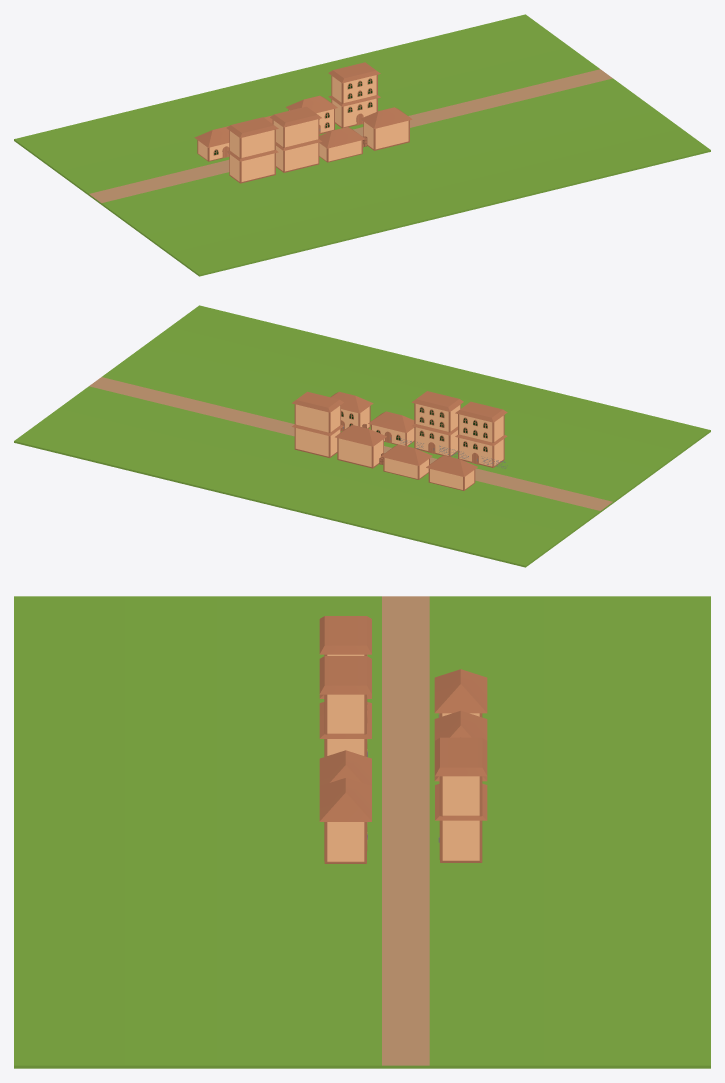
3 views of the same model, one above another, from view 1: azimuth 30°, elevation 25°; view 2: azimuth 150°, elevation 25°; view 3: azimuth 270°, elevation 25° (orthographic). The views are drawn at different scales.
Parts seen in each view (by area): view 1: ground, baseFloor1.004, base, baseFloor1, baseFloor1.005, baseFloor1.001, baseFloor1.003, baseFloor1.002, roof, base.001, roof.005, roof.008 (+4 smaller); view 2: ground, base.002, baseFloor1.002, baseFloor1.003, baseFloor1.004, baseFloor1, baseFloor1.005, baseFloor1.001, base.004, base.003, roof.006, roof.009 (+6 smaller); view 3: ground, roof.010, roof, roof.005, roof.002, roof.008, baseFloor1.002, base, baseFloor1.003, baseFloor1.001, roof.001, roof.009.
Part boxes in pixels (x1=…): ground: x1=14, y1=14, x2=710, y2=276; baseFloor1.004: x1=229, y1=153, x2=275, y2=183; base: x1=363, y1=120, x2=409, y2=150; baseFloor1: x1=276, y1=142, x2=319, y2=172; baseFloor1.005: x1=229, y1=129, x2=275, y2=158; baseFloor1.001: x1=272, y1=119, x2=319, y2=147; baseFloor1.003: x1=331, y1=74, x2=377, y2=103; baseFloor1.002: x1=331, y1=98, x2=377, y2=128; roof: x1=360, y1=107, x2=412, y2=128; base.001: x1=319, y1=140, x2=362, y2=162; roof.005: x1=328, y1=62, x2=380, y2=83; roof.008: x1=226, y1=117, x2=278, y2=138; ground: x1=14, y1=305, x2=710, y2=567; base.002: x1=337, y1=438, x2=383, y2=468; baseFloor1.002: x1=294, y1=428, x2=340, y2=457; baseFloor1.003: x1=294, y1=404, x2=340, y2=432; baseFloor1.004: x1=458, y1=437, x2=504, y2=467; baseFloor1: x1=414, y1=427, x2=457, y2=456; baseFloor1.005: x1=458, y1=414, x2=504, y2=442; baseFloor1.001: x1=414, y1=403, x2=460, y2=432; base.004: x1=428, y1=468, x2=475, y2=490; base.003: x1=383, y1=457, x2=429, y2=479; roof.006: x1=335, y1=425, x2=386, y2=446; roof.009: x1=380, y1=444, x2=432, y2=465; ground: x1=14, y1=596, x2=710, y2=1068; roof.010: x1=434, y1=669, x2=487, y2=713; roof: x1=319, y1=778, x2=371, y2=821; roof.005: x1=435, y1=737, x2=487, y2=776; roof.002: x1=319, y1=656, x2=371, y2=694; roof.008: x1=319, y1=616, x2=371, y2=654; baseFloor1.002: x1=439, y1=820, x2=482, y2=862; base: x1=324, y1=822, x2=366, y2=863; baseFloor1.003: x1=439, y1=776, x2=482, y2=816; baseFloor1.001: x1=324, y1=694, x2=366, y2=734; roof.001: x1=319, y1=750, x2=371, y2=785; roof.009: x1=434, y1=710, x2=487, y2=745.
Size of the model in its own units: 353 by 34.49 by 222.
Materials: 27 (27 with a texture image).
